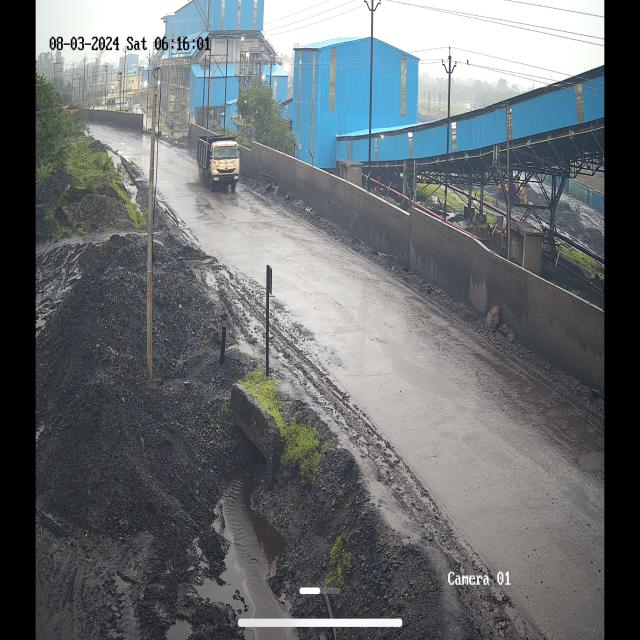dump_truck: (192, 124, 241, 196)
